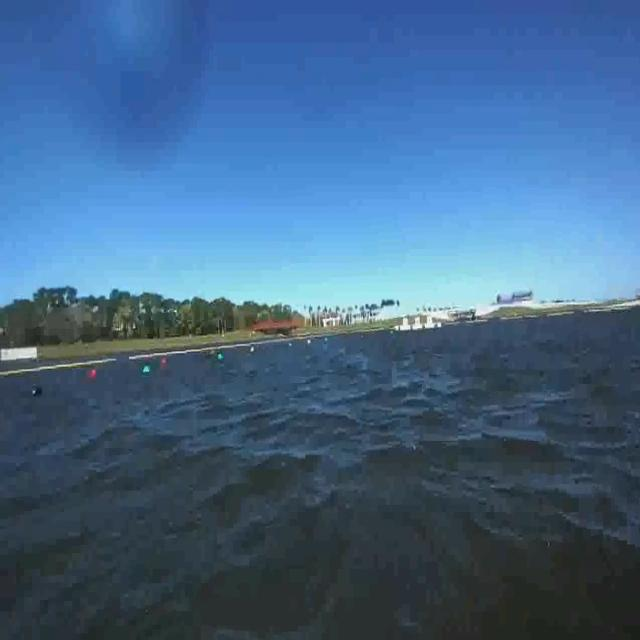green-buoy: (143, 365, 151, 375)
red-buoy: (92, 366, 100, 380)
